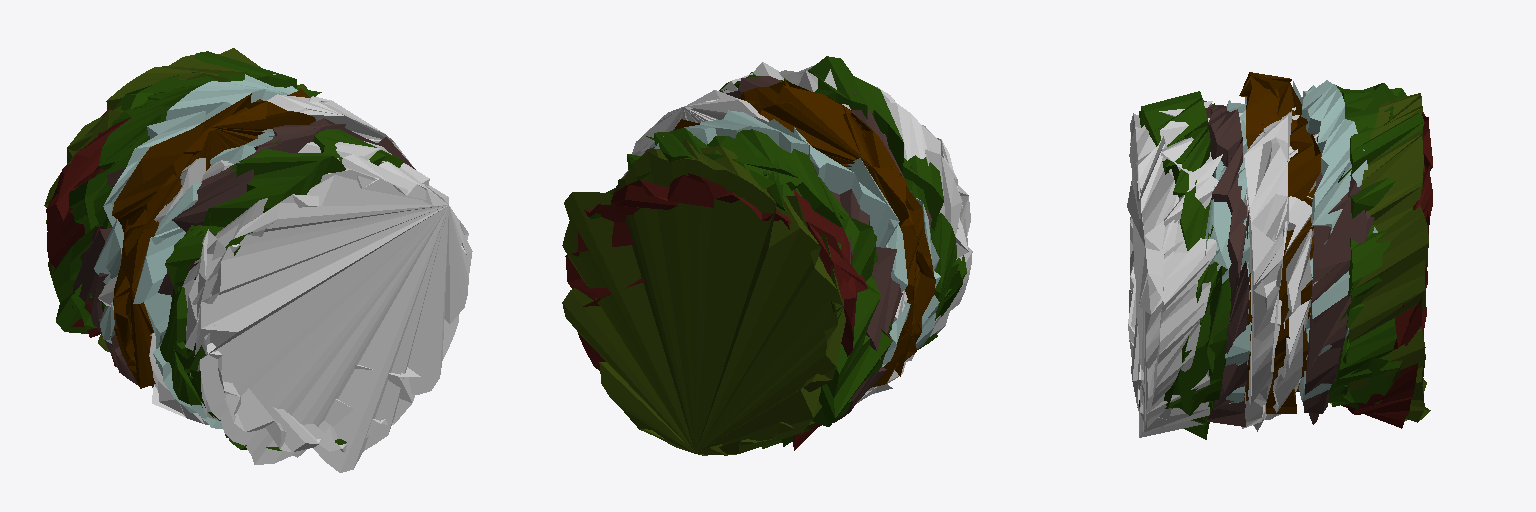
Rendered from word.obj.
3 views of the same model, side by side, from view 1: azimuth 30°, elevation 25°; view 2: azimuth 150°, elevation 25°; view 3: azimuth 270°, elevation 25° (orthographic).
Visible parts, largest first — view 1: Cilindro.002; view 2: Cilindro.002; view 3: Cilindro.002.
Boxes of the visible parts, x1,y1,x2,y2 form: Cilindro.002: [44, 48, 472, 472]; Cilindro.002: [562, 56, 972, 455]; Cilindro.002: [1127, 72, 1432, 439].
Size of the model in its own units: 5.23 by 5.44 by 4.47.